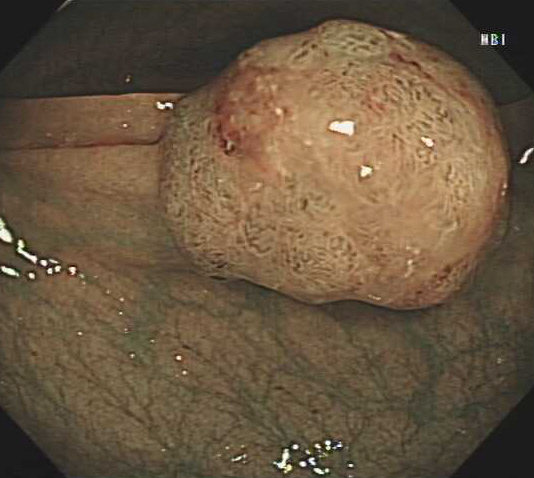adenoma: (160, 16, 514, 313)
